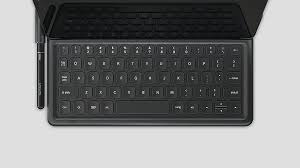keyboard: (49, 41, 250, 123)
